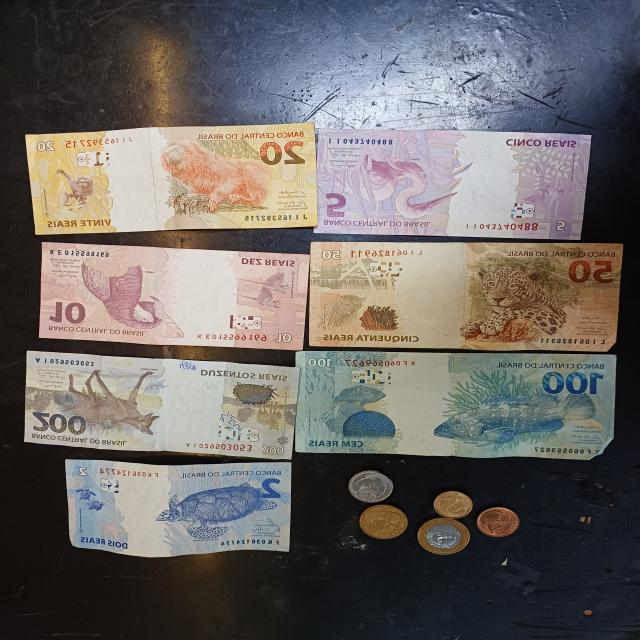1 real: (416, 518, 472, 556)
25 cents: (358, 502, 410, 540)
50 cents: (348, 469, 396, 503)
